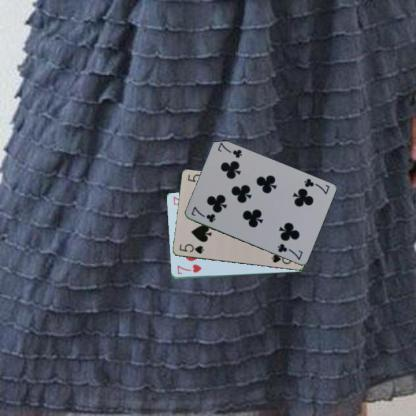5s: (177, 241, 205, 255)
7c: (301, 176, 331, 196), (188, 204, 217, 224)
7h: (174, 262, 203, 276)
